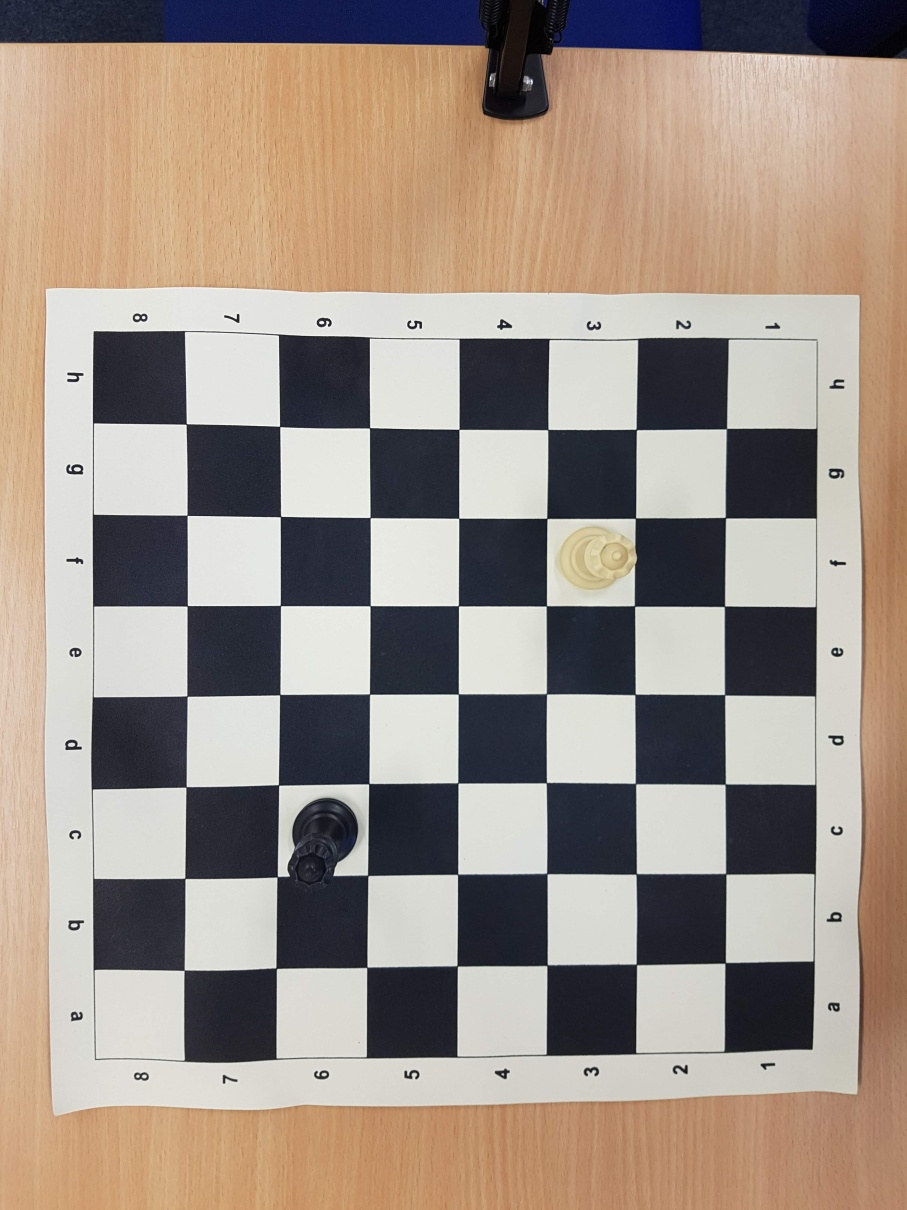chess_queen: (287, 802, 353, 893), (557, 526, 637, 591)
